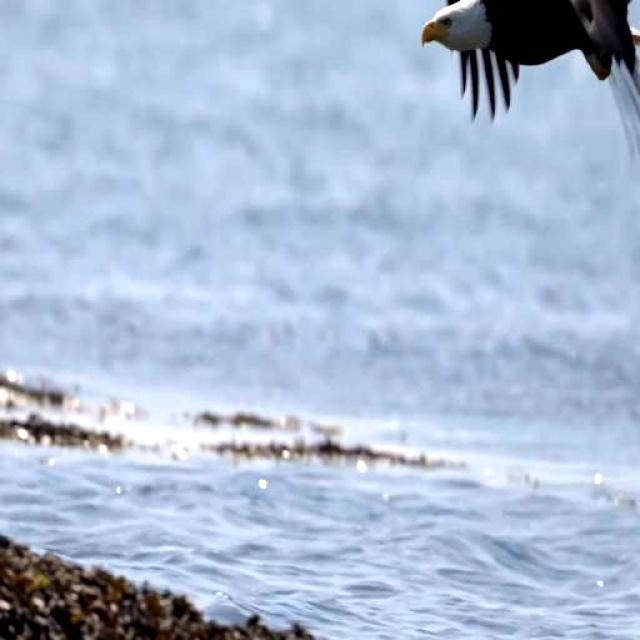airplane: (374, 0, 640, 170)
